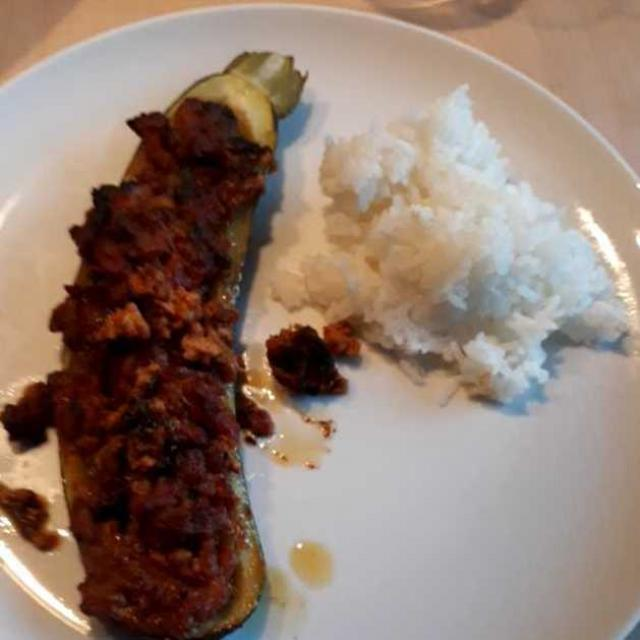rice: (276, 78, 622, 414)
